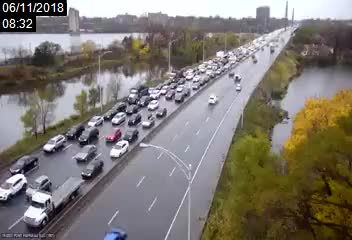congestion: (1, 122, 141, 229), (78, 93, 171, 134), (23, 175, 81, 226), (127, 73, 199, 99), (175, 60, 228, 79), (216, 44, 243, 64)
personal_car: (1, 173, 27, 203), (26, 176, 53, 200), (9, 154, 38, 175), (43, 135, 66, 154), (103, 225, 132, 240), (82, 160, 103, 180), (75, 144, 98, 162), (110, 140, 130, 159), (79, 127, 99, 145), (122, 126, 139, 144), (67, 123, 82, 142), (105, 128, 122, 143), (140, 113, 155, 128), (111, 111, 125, 126), (89, 115, 104, 129), (127, 112, 141, 125), (112, 101, 126, 112), (207, 94, 219, 106), (104, 108, 115, 120), (173, 92, 184, 103), (156, 107, 167, 118), (147, 99, 158, 110), (138, 95, 149, 106), (164, 89, 175, 99), (150, 90, 161, 100), (160, 84, 169, 95), (126, 104, 137, 113), (175, 83, 184, 93), (190, 82, 201, 90), (183, 86, 191, 96), (232, 74, 242, 82), (177, 77, 186, 85), (156, 82, 164, 90), (234, 83, 242, 91), (185, 73, 194, 80), (192, 75, 201, 82), (169, 81, 176, 89), (227, 71, 236, 77)
truck: (127, 85, 149, 104), (165, 70, 183, 84)
